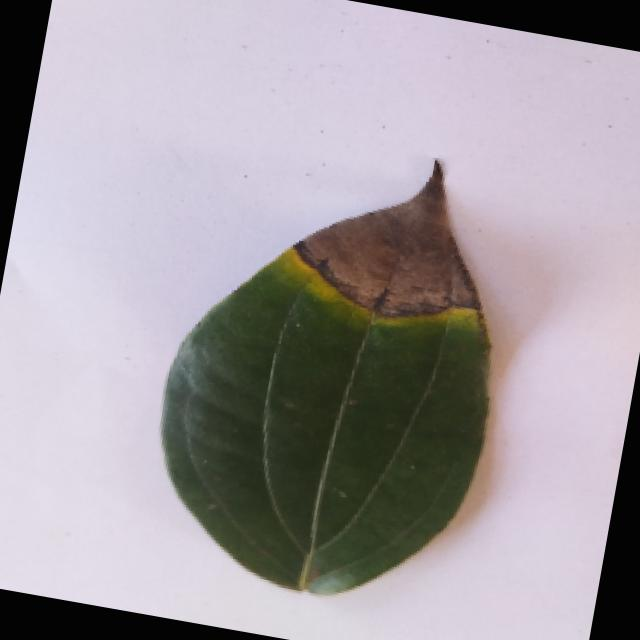footrot: (134, 124, 536, 624)
